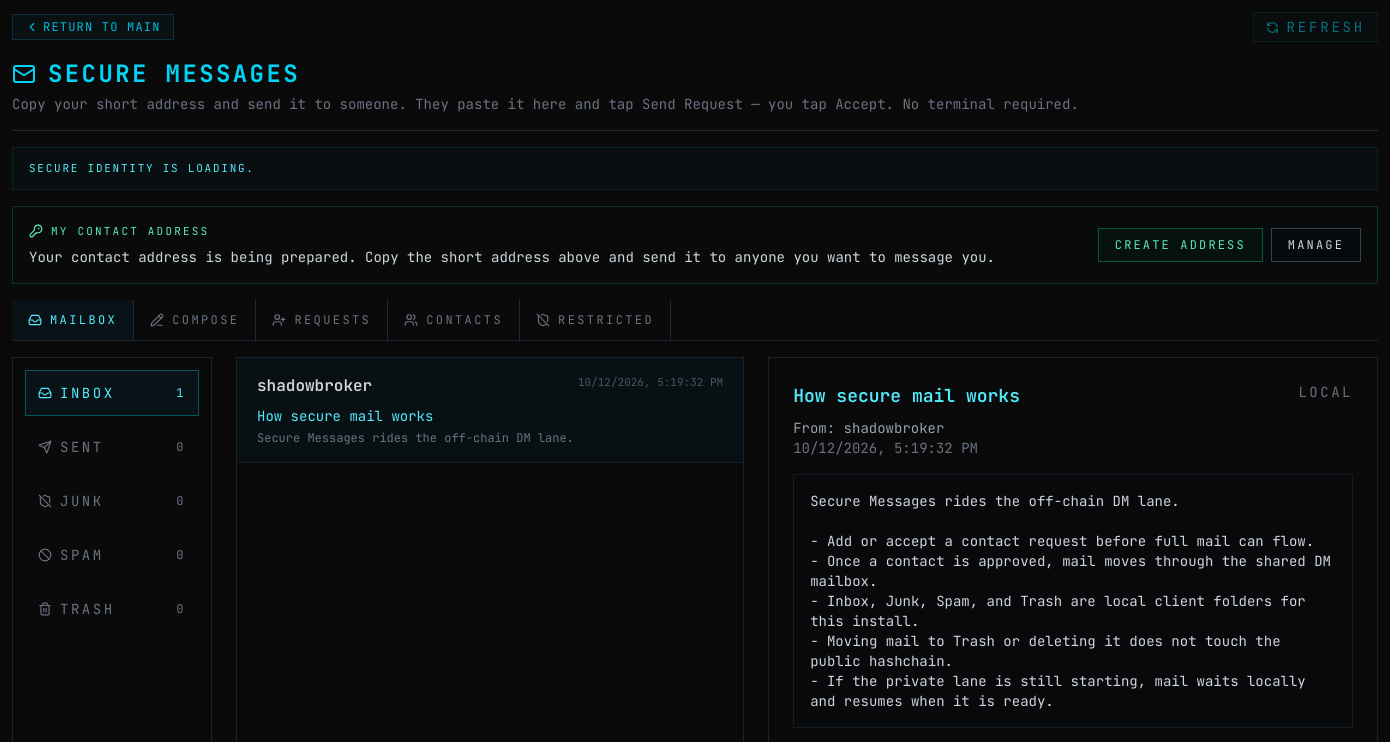
Test case: MessagesView first-contact trust UX › removes an approved contact immediately from the visible contact list
What coordinates should you click on to do the following:
click the button "CONTACTS"
I would click on:
 (454, 320)
Its box is [388,300,520,340].
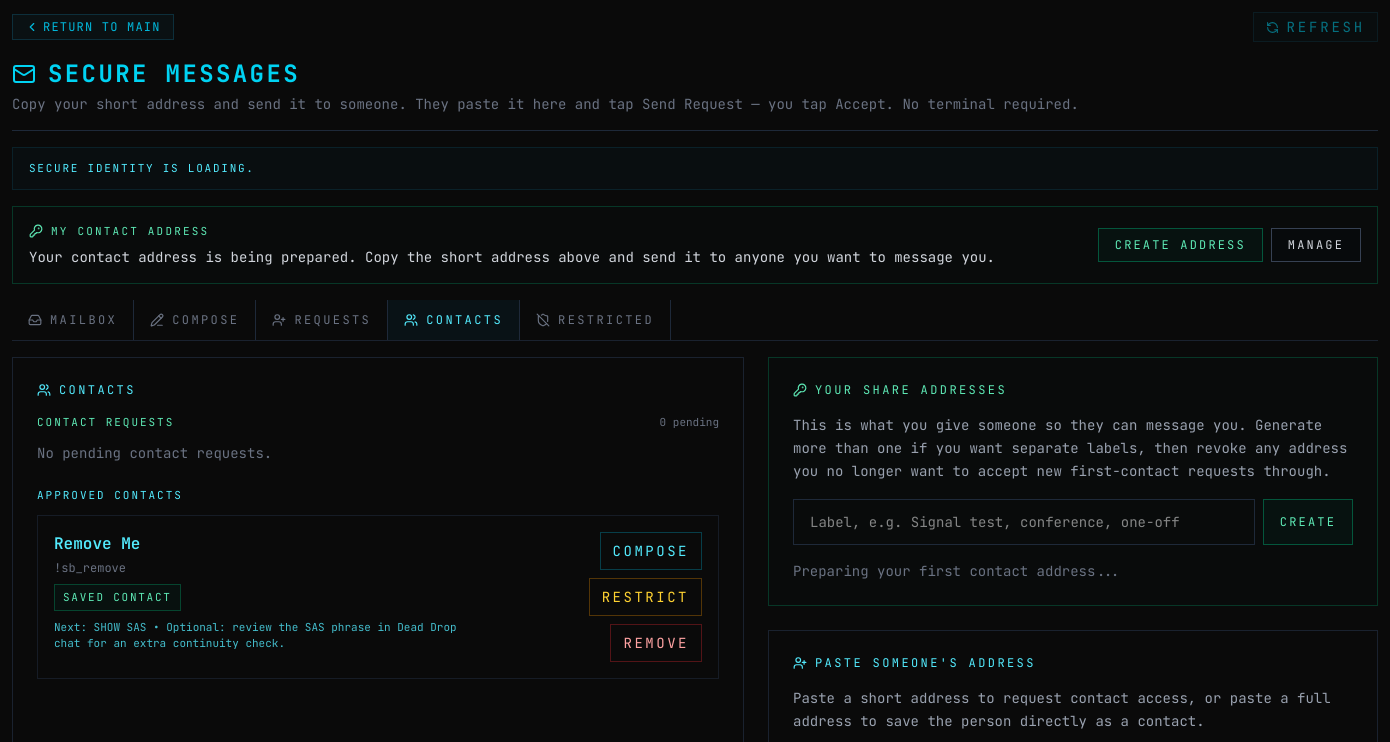
Expected: the text "Remove Me" is shown, [54,533,140,554]
What coordinates should you click on to do the following:
click the button "Remove"
I would click on:
 (656, 643)
Its box is [610,624,702,662].
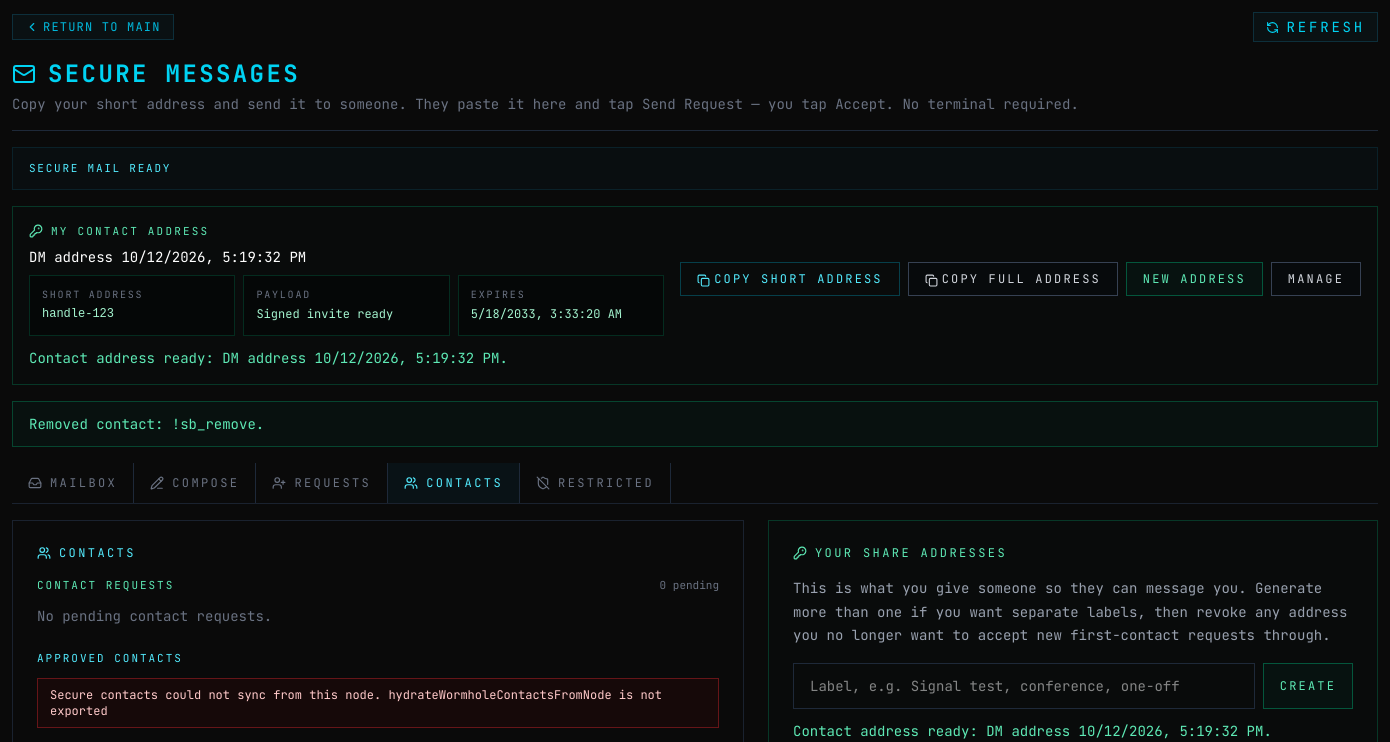
Expected: the text "Removed contact: !sb_remove." is shown, [12,401,1378,447]
Expected: the text "Remove Me" is gone
